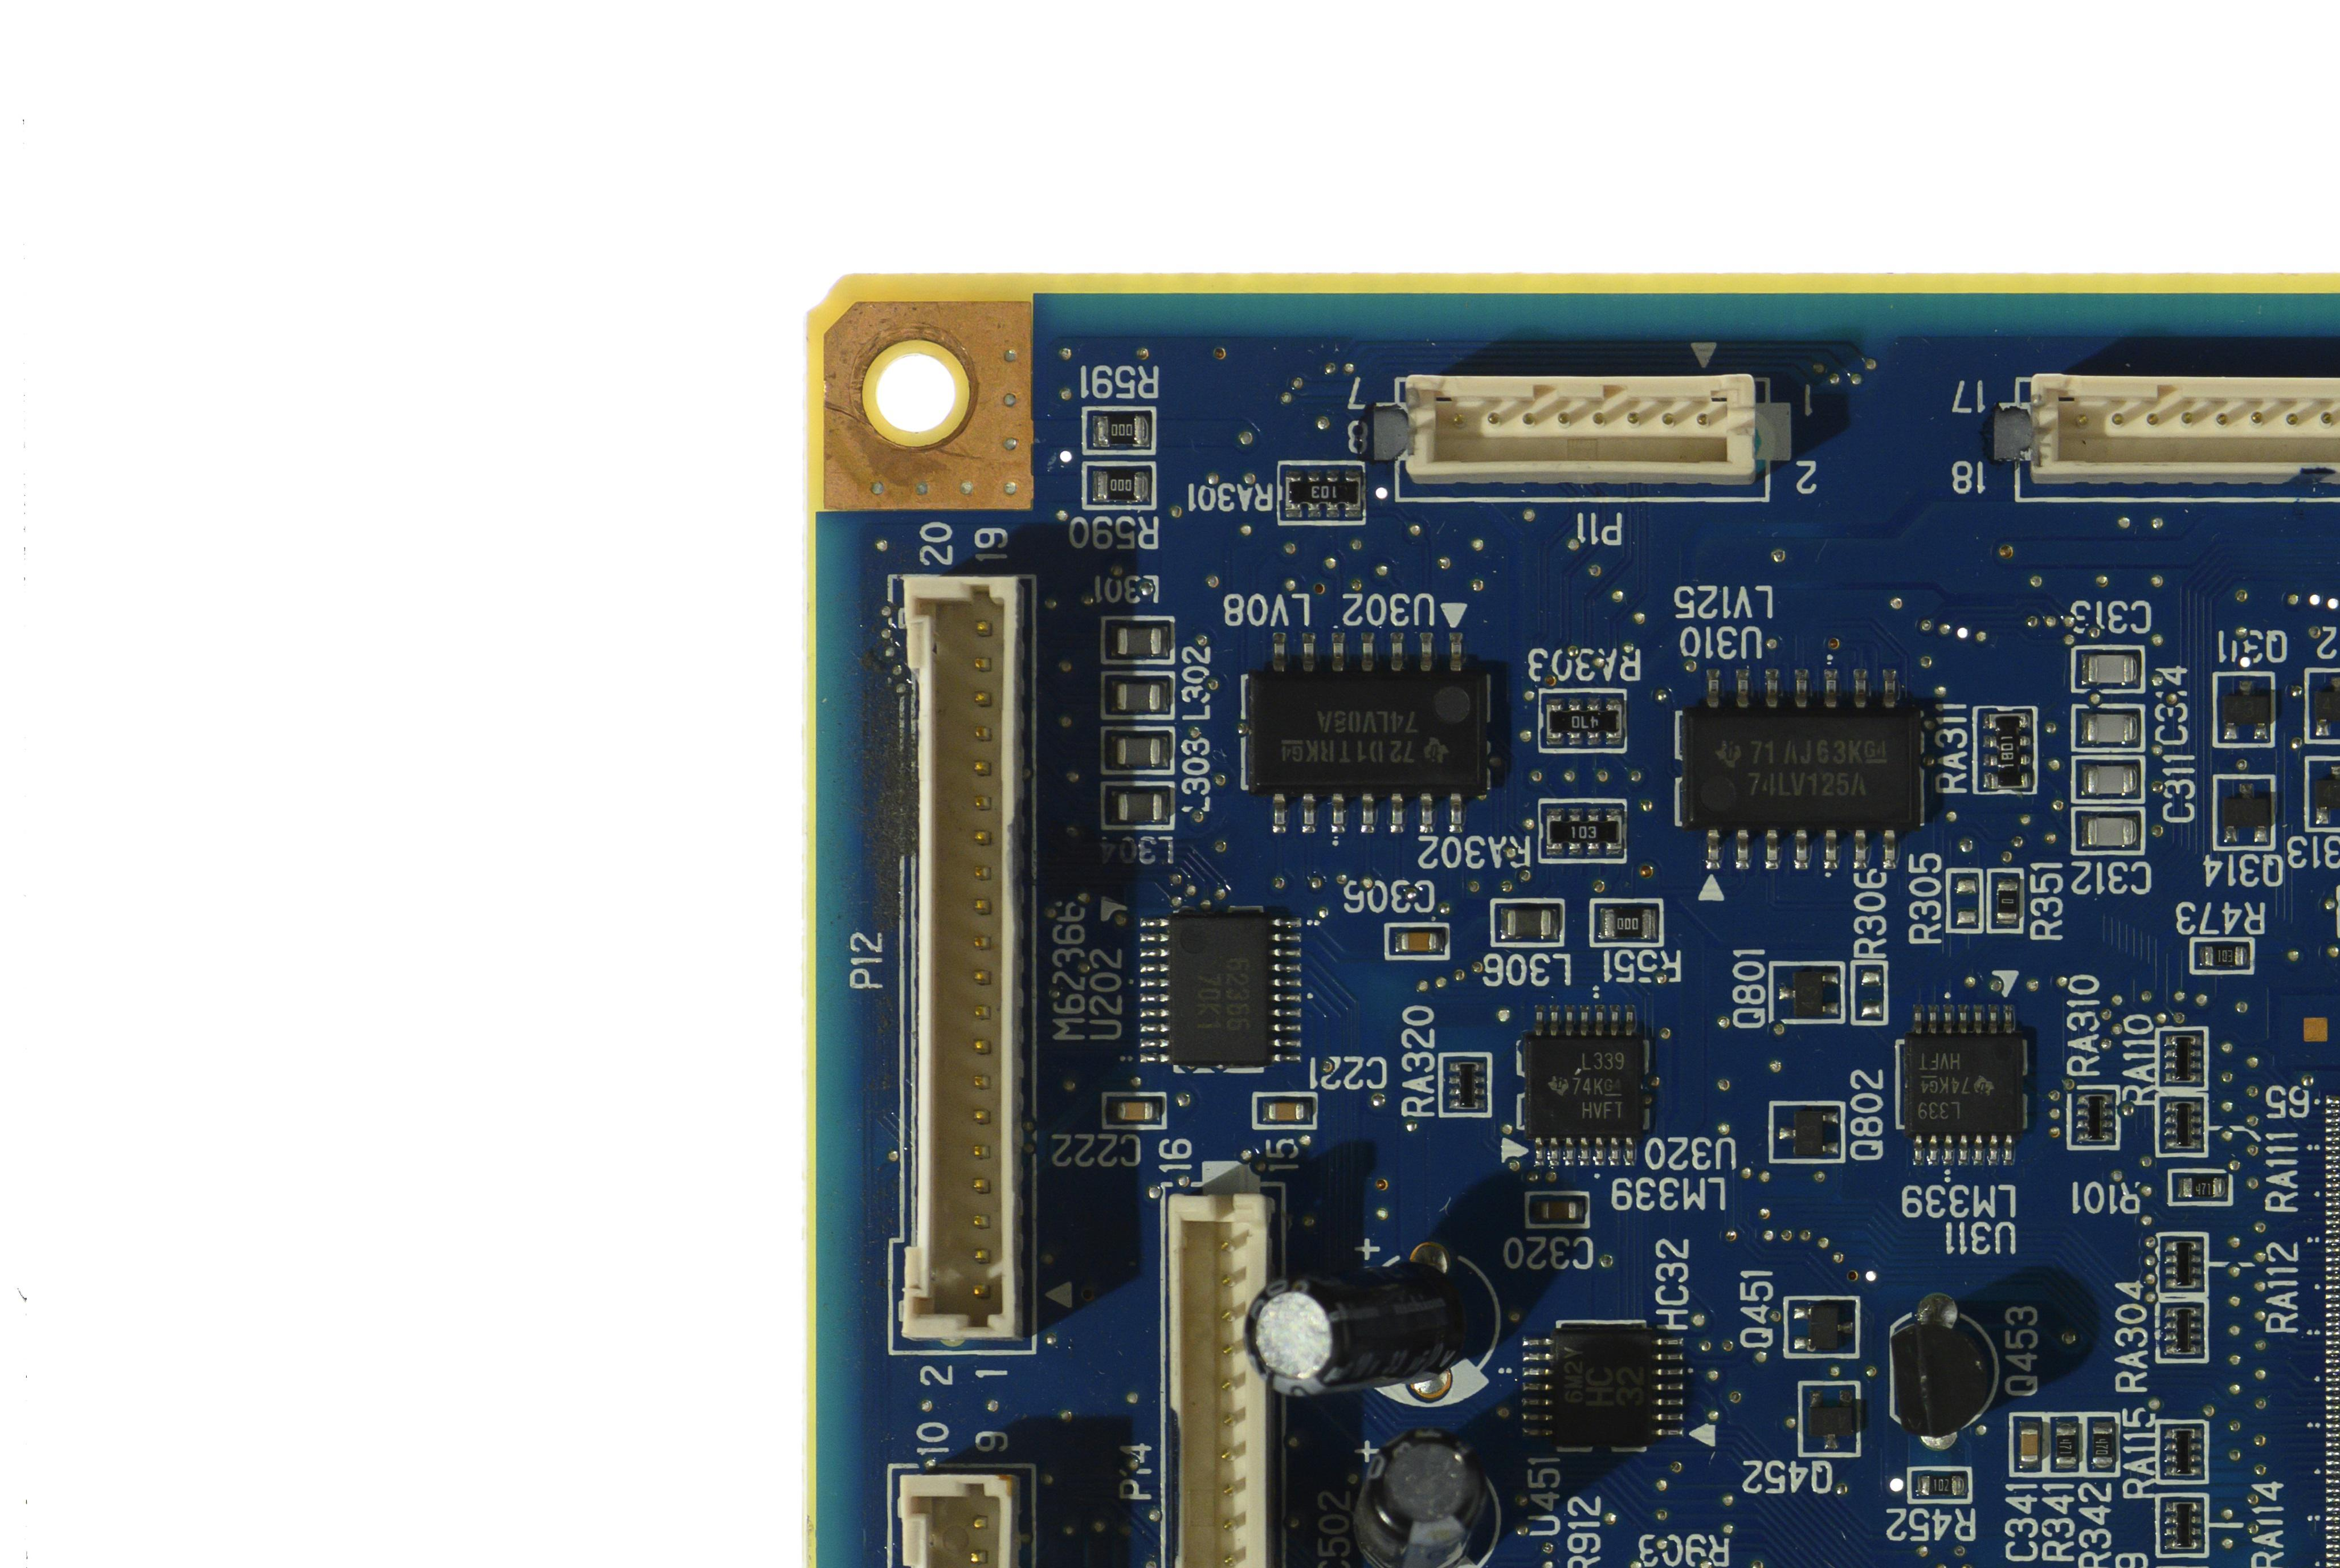ICs: (1237, 663, 1484, 798), (1673, 703, 1911, 833), (1157, 910, 1271, 1071), (1512, 1031, 1636, 1141), (1892, 1029, 2016, 1139), (1512, 1031, 1636, 1141), (1542, 1327, 1649, 1444), (2336, 1064, 2340, 1568)
capacitors: (2074, 763, 2126, 796), (2074, 653, 2126, 686), (2074, 816, 2125, 847), (2074, 712, 2125, 744), (1110, 1097, 1150, 1125), (1257, 1099, 1299, 1125), (1530, 1199, 1572, 1223), (1390, 931, 1433, 954), (2009, 1425, 2030, 1465)
inductors: (1495, 906, 1545, 942), (1106, 735, 1159, 768), (1106, 681, 1159, 714), (1106, 625, 1159, 658), (1106, 791, 1159, 823)
resistors: (1535, 700, 1619, 746), (1976, 710, 2021, 791), (1535, 810, 1617, 854), (1274, 473, 1356, 516), (2065, 1092, 2105, 1144), (2151, 1237, 2189, 1291), (2151, 1099, 2191, 1150), (2151, 1305, 2191, 1356), (2153, 1498, 2193, 1549), (2154, 1425, 2193, 1477), (2153, 1033, 2191, 1085), (1440, 1059, 1477, 1111), (1089, 467, 1141, 502), (1089, 413, 1139, 448), (1593, 905, 1645, 938), (2189, 942, 2240, 970), (2167, 1173, 2214, 1200), (2042, 1421, 2070, 1468), (1983, 878, 2011, 922), (1909, 1472, 1951, 1500), (2079, 1425, 2105, 1468), (2331, 894, 2340, 933)
transistors: (2203, 793, 2265, 831), (2202, 689, 2263, 726), (1780, 1103, 1818, 1160), (1799, 1300, 1836, 1358), (1780, 964, 1817, 1022), (1796, 1400, 1846, 1435), (2296, 682, 2340, 723), (2296, 775, 2340, 814)
